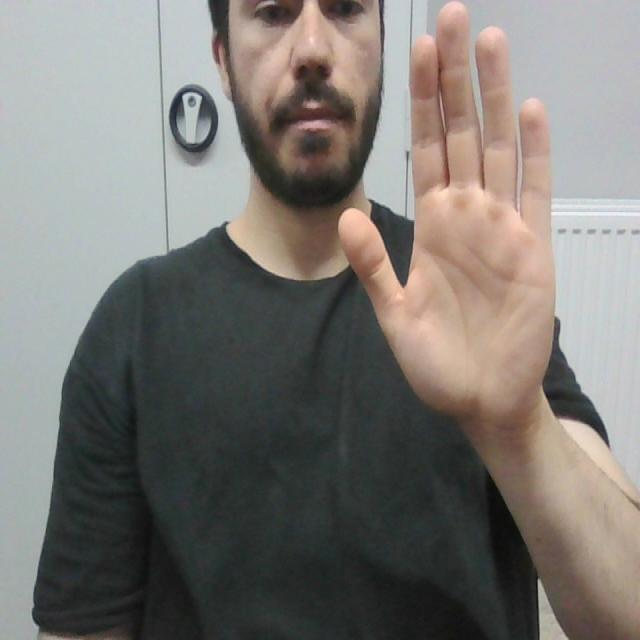Dur: (339, 6, 574, 419)
